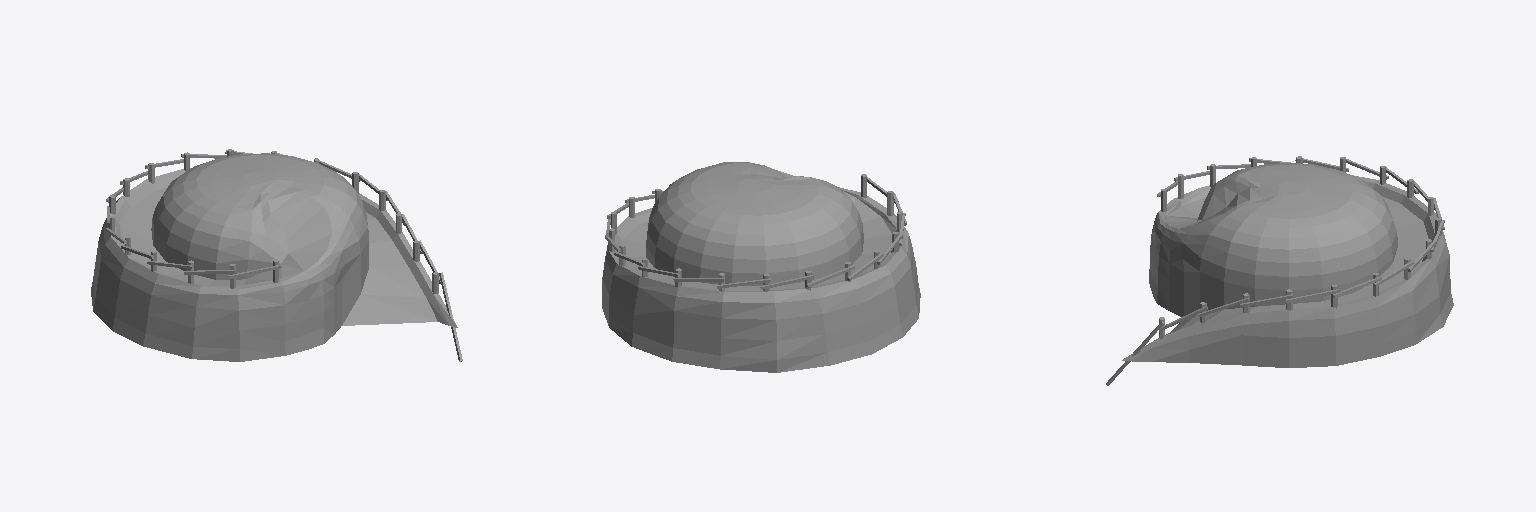
File: Hut_Hill.obj
The picture shows the model from 3 angles: view 1: azimuth 30°, elevation 25°; view 2: azimuth 150°, elevation 25°; view 3: azimuth 270°, elevation 25°; orthographic projection.
Visible parts, largest first — view 1: Mesh.013_pSphere1; view 2: Mesh.013_pSphere1; view 3: Mesh.013_pSphere1.
Boxes of the visible parts, x1,y1,x2,y2 form: Mesh.013_pSphere1: [91, 153, 457, 361]; Mesh.013_pSphere1: [602, 162, 920, 372]; Mesh.013_pSphere1: [1122, 163, 1453, 367].
Size of the model in its own units: 803 by 397 by 869.